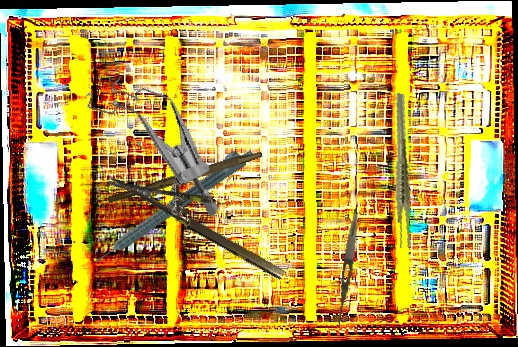Dressing Forceps: (334, 213, 361, 329)
Handpiece: (87, 140, 257, 268)
Needle Holder: (108, 149, 299, 282)
Scalpel Handle: (107, 146, 263, 207)
Speculum: (61, 64, 251, 220)
Tissue Forceps: (372, 92, 434, 250)
